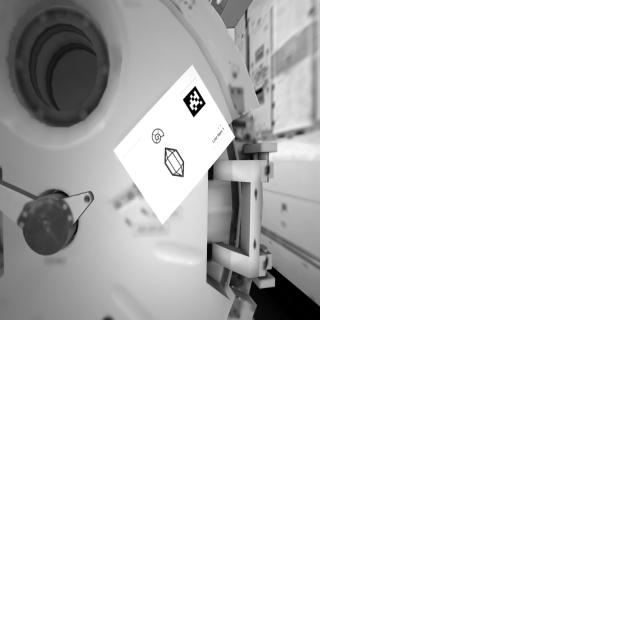crystal: (161, 148, 191, 182)
fossil: (151, 128, 167, 147)
